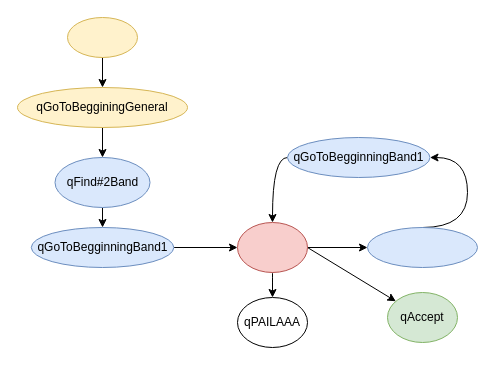
This 495x365 diagram has some shape labels left out. The shapes that lost their labels are listed below. From the top down, each one's centre as x and y in pixels, then its label:
[102,37]: qCopy
[272,247]: qCompare
[422,247]: qGoToNextWord
